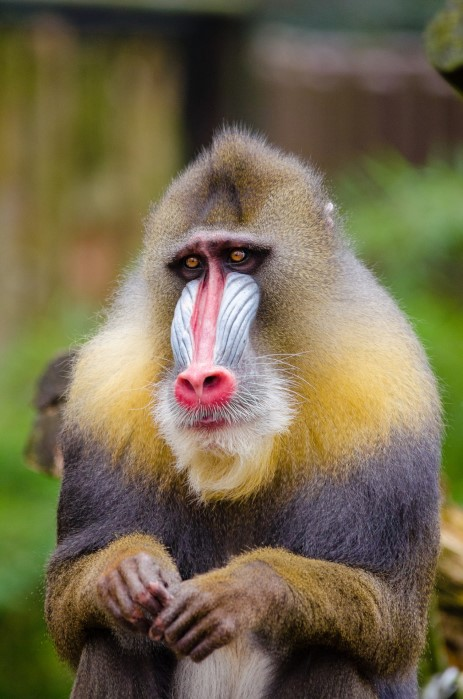Mandrill: (75, 142, 440, 670)
